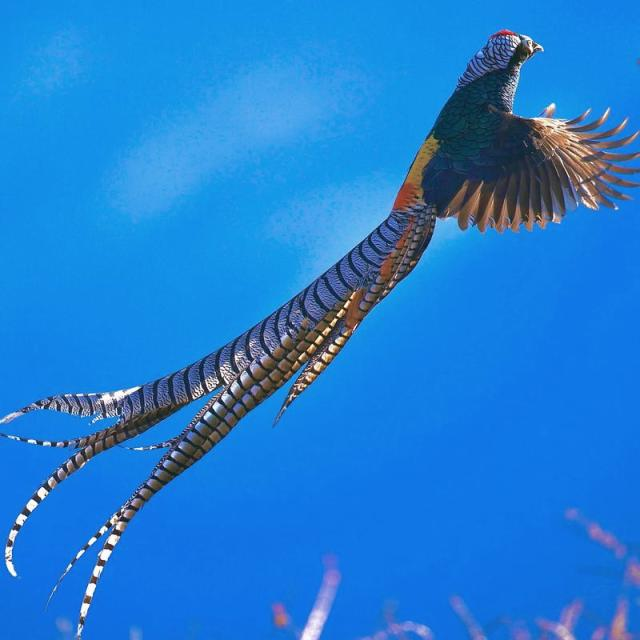Chrysolophus amherstiae: (7, 204, 434, 523)
